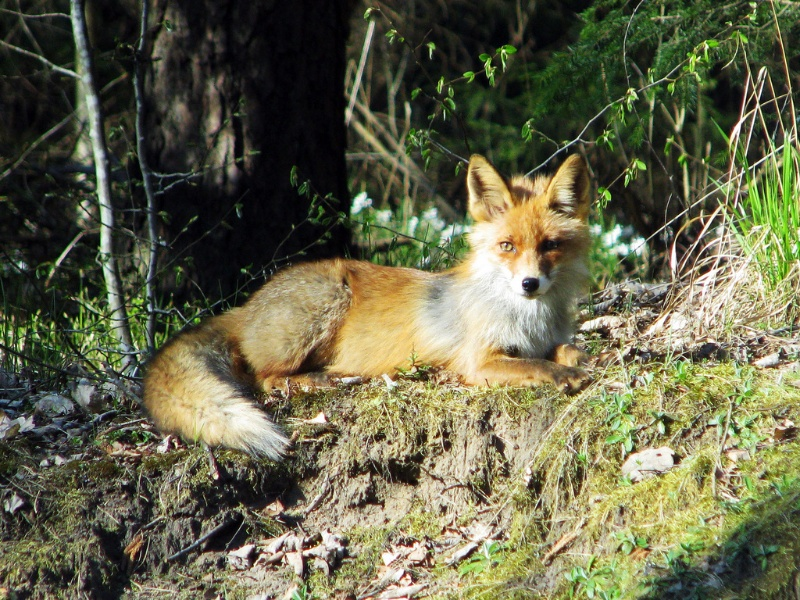fox: (150, 145, 602, 453)
